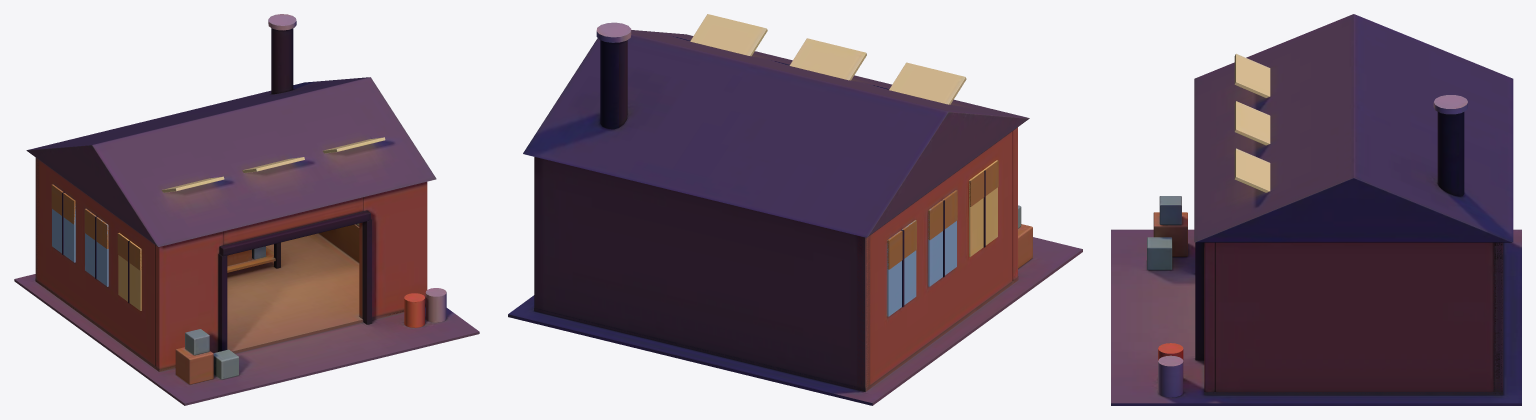
Rendered from workshop.glb.
3 views of the same model, side by side, from view 1: azimuth 30°, elevation 25°; view 2: azimuth 150°, elevation 25°; view 3: azimuth 270°, elevation 25° (orthographic). The views are drawn at different scales.
Parts seen in each view (by area): view 1: workshop; view 2: workshop; view 3: workshop.
Part boxes in pixels (x1,y1,x2,y2): workshop: [14, 14, 479, 405]; workshop: [508, 14, 1082, 405]; workshop: [1111, 14, 1521, 405].
Size of the model in its own units: 5.5 by 4 by 5.5.
Materials: 1 (1 with a texture image).
